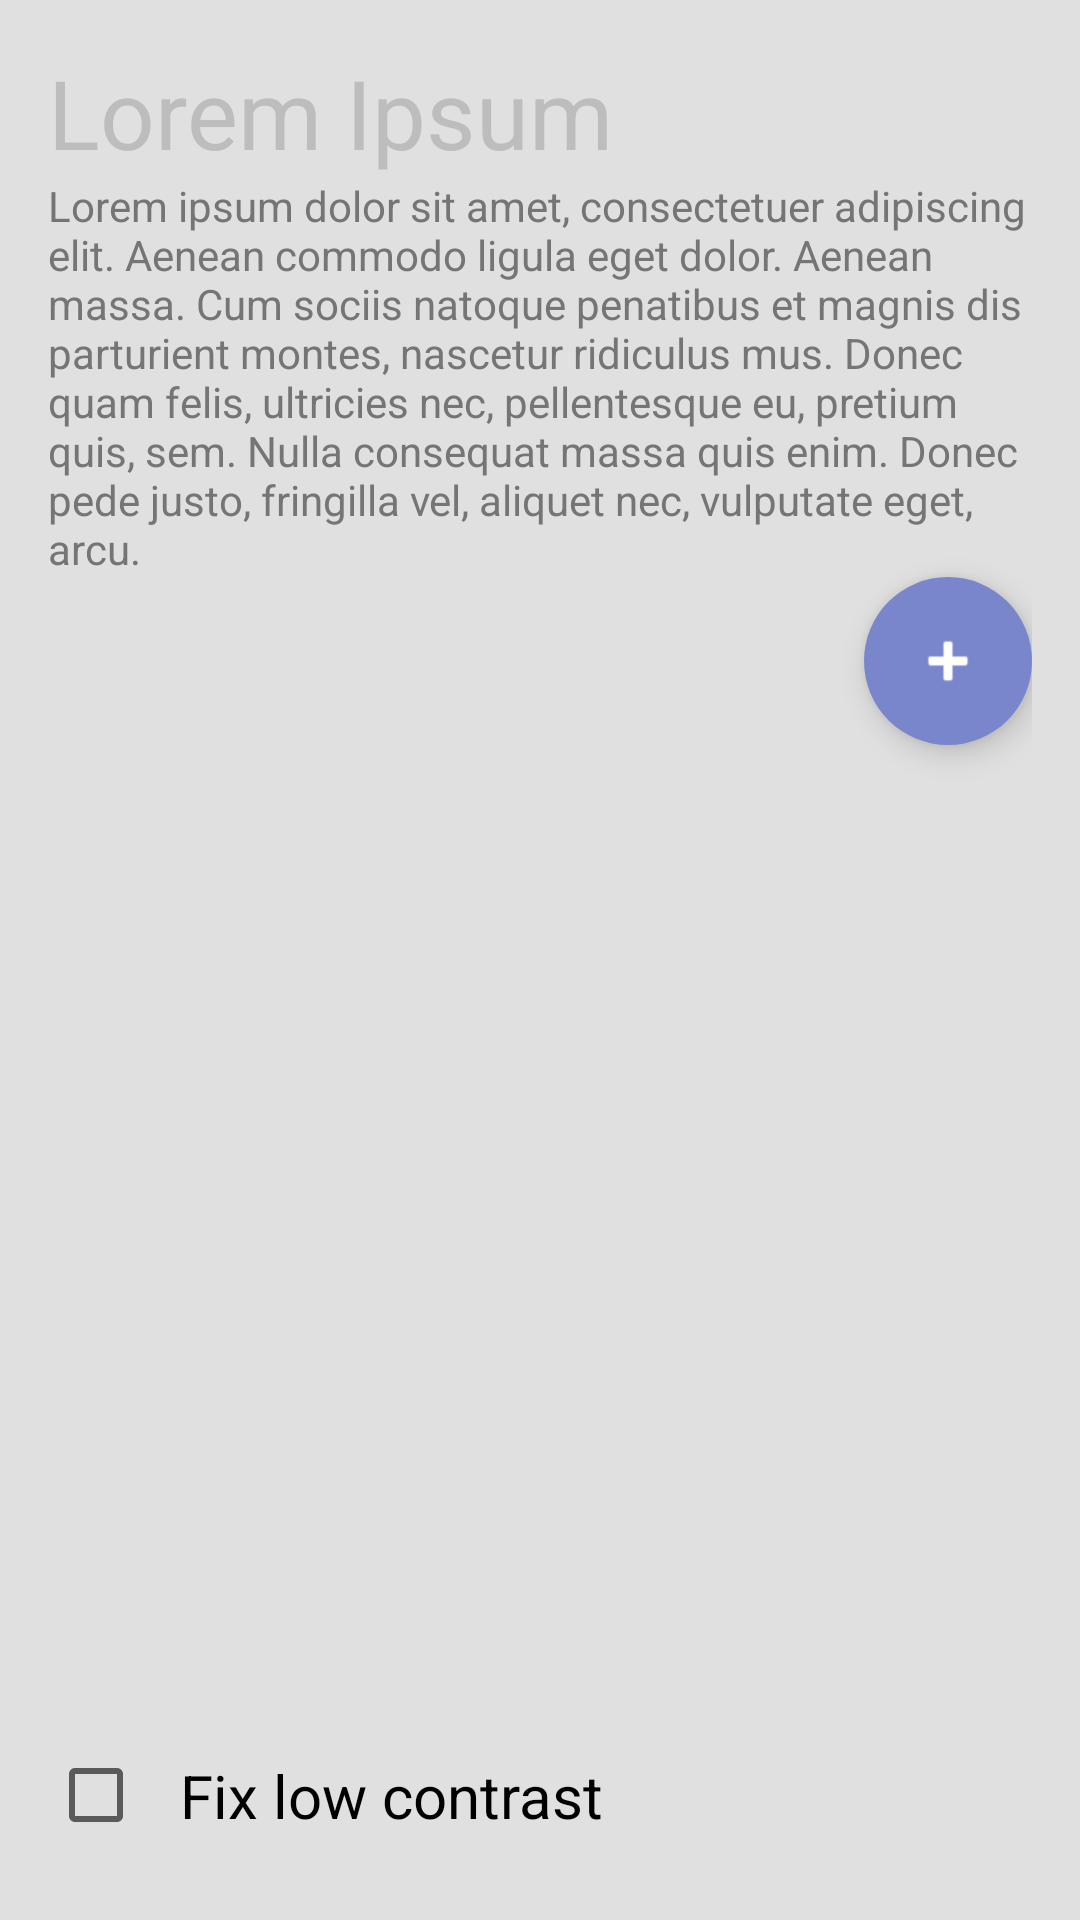

Named icons in this screenshot (1080×1920) and their bounding boxes, Rect(x1, y1, x2, y2):
Add item: Rect(864, 577, 1032, 745)
